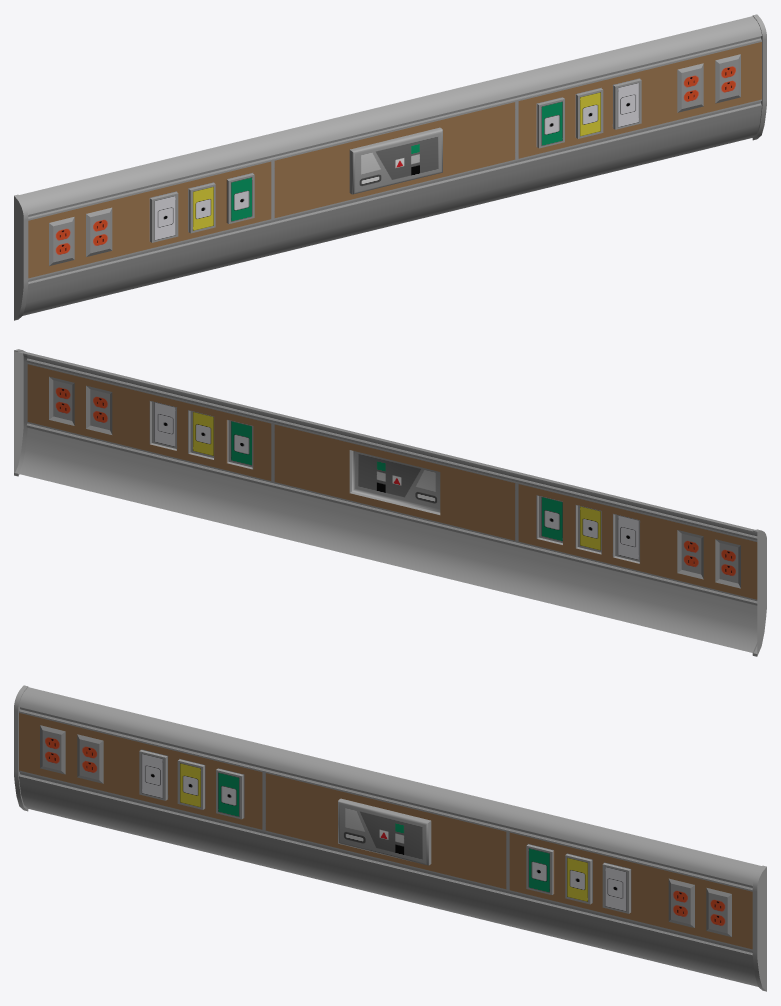
The model's file is hospital_headwall-_theo_kurokawa.glb.
3 views of the same model, one above another, from view 1: azimuth 30°, elevation 25°; view 2: azimuth 150°, elevation 25°; view 3: azimuth 330°, elevation 25° (orthographic).
Visible parts, largest first — view 1: Box001_Material #0_0; view 2: Box001_Material #0_0; view 3: Box001_Material #0_0.
Boxes of the visible parts, x1,y1,x2,y2 form: Box001_Material #0_0: [14, 14, 766, 320]; Box001_Material #0_0: [14, 349, 766, 656]; Box001_Material #0_0: [14, 685, 766, 991].
Size of the model in its own units: 991 by 159 by 29.56.
1 material, 1 textured.
